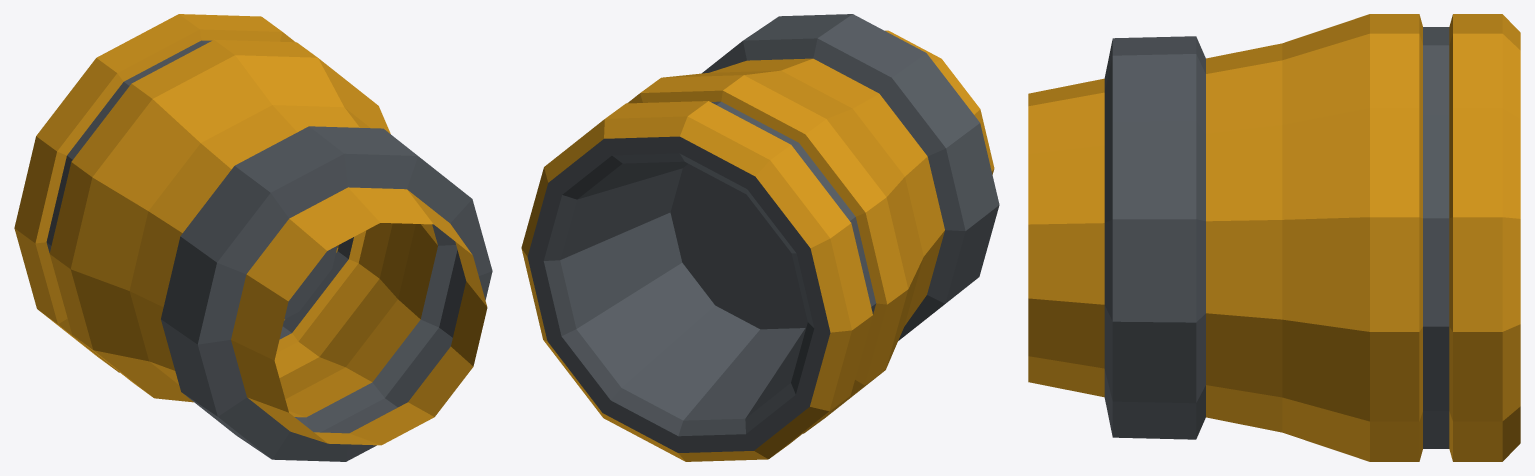
Rendered from Mothership_01_Thruster_Yellow.fbx.
The picture shows the model from 3 angles, left to right: view 1: azimuth 30°, elevation 25°; view 2: azimuth 150°, elevation 25°; view 3: azimuth 270°, elevation 25°; orthographic projection. The views are drawn at different scales.
Visible parts, largest first — view 1: Mothership_01_Thruster_Yellow; view 2: Mothership_01_Thruster_Yellow; view 3: Mothership_01_Thruster_Yellow.
Part boxes in pixels (left/top/right/bottom): Mothership_01_Thruster_Yellow: left=14, top=14, right=492, bottom=461; Mothership_01_Thruster_Yellow: left=521, top=14, right=999, bottom=461; Mothership_01_Thruster_Yellow: left=1028, top=14, right=1520, bottom=461.
Bounding box in the file's own units: 734 × 734 × 804.
1 material, 1 textured.
